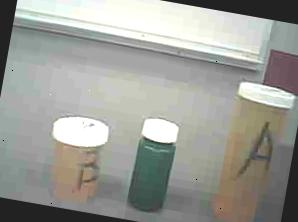Bottle A: (204, 76, 294, 222)
Bottle B: (31, 106, 119, 211)
Bottle C: (123, 111, 190, 220)
